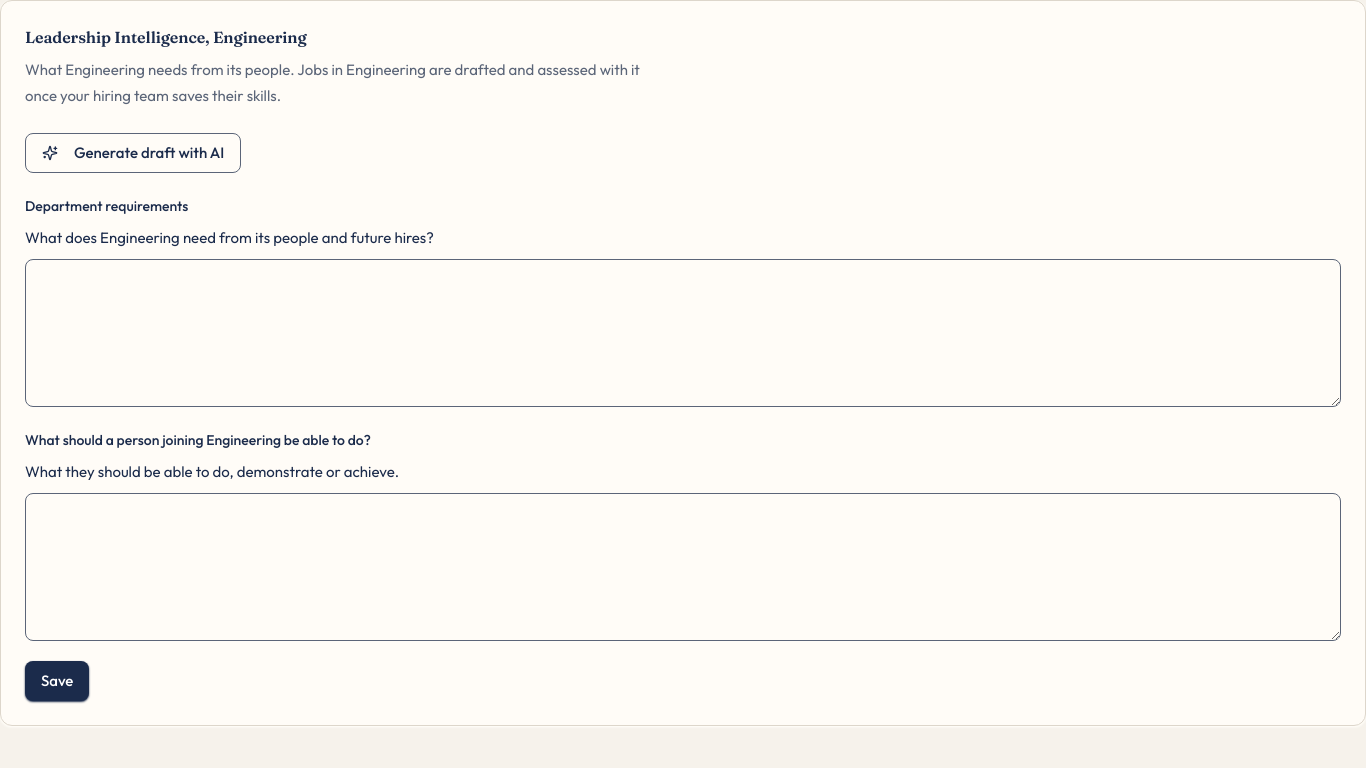
Test: the AI draft › shows the server's sentence when there is nothing to draft from
Click the button "Generate draft with AI": (133, 153) [25,133,241,173]
Wait 3000 ms
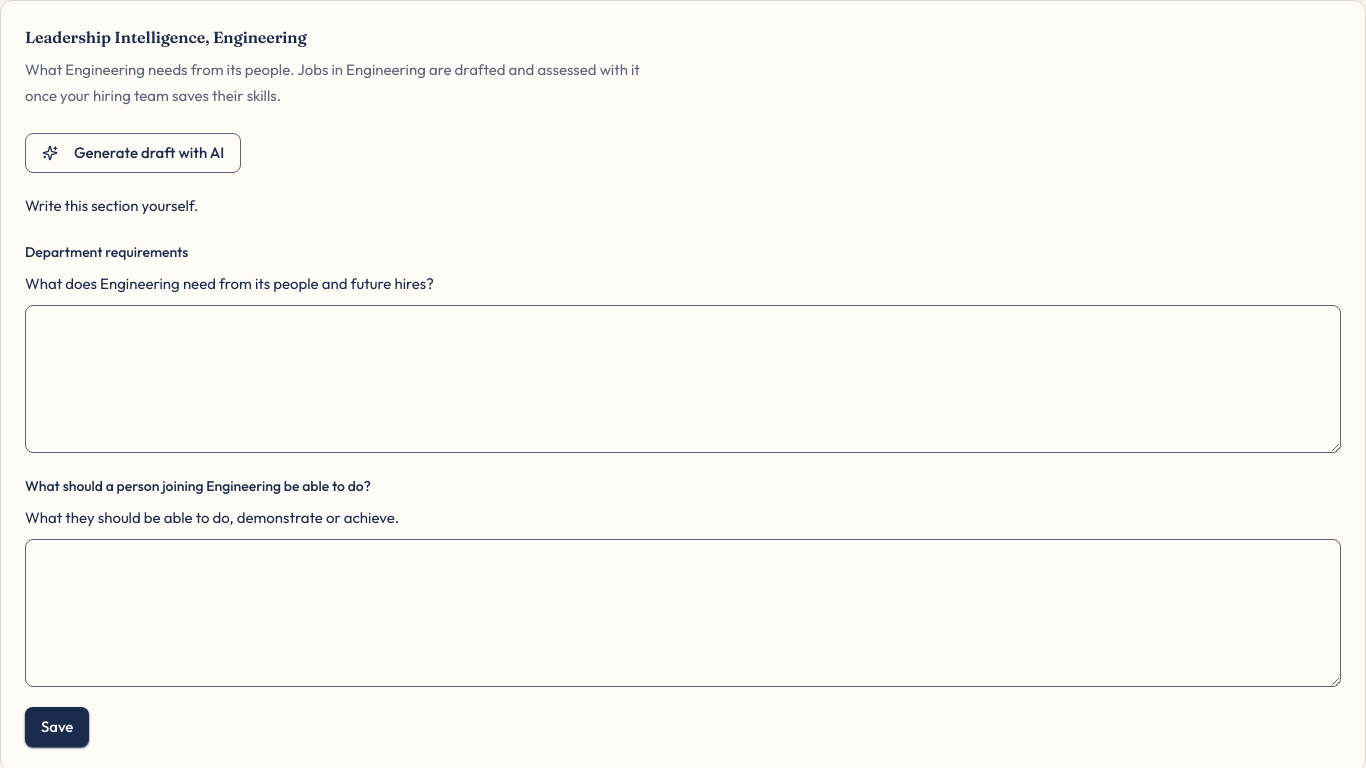
Now the message reads "Write this section yourself.", box [25,196,198,215]
